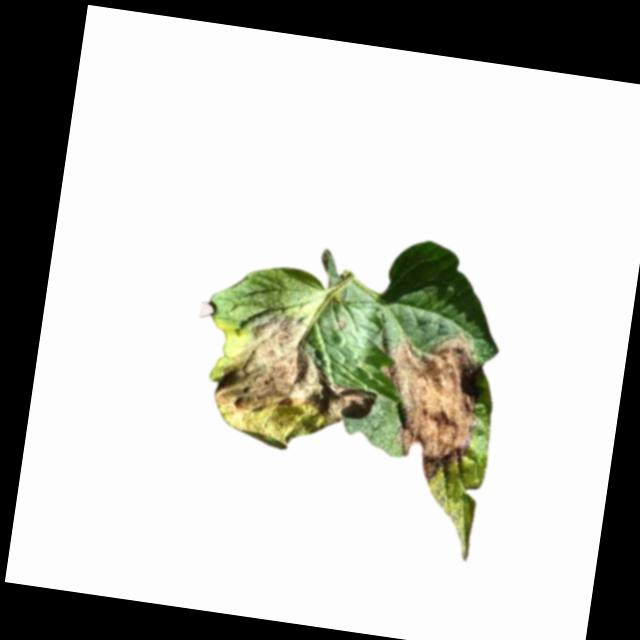Late_blight: (200, 305, 384, 463), (366, 323, 486, 485)
